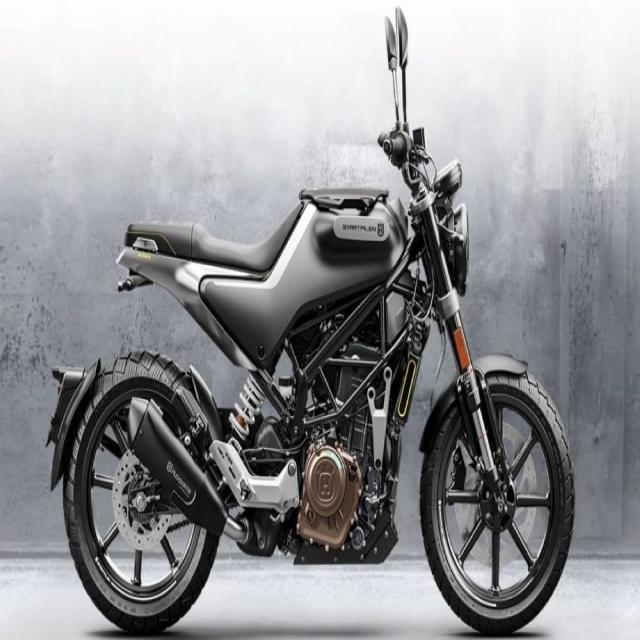motorcycle: (48, 9, 574, 634)
